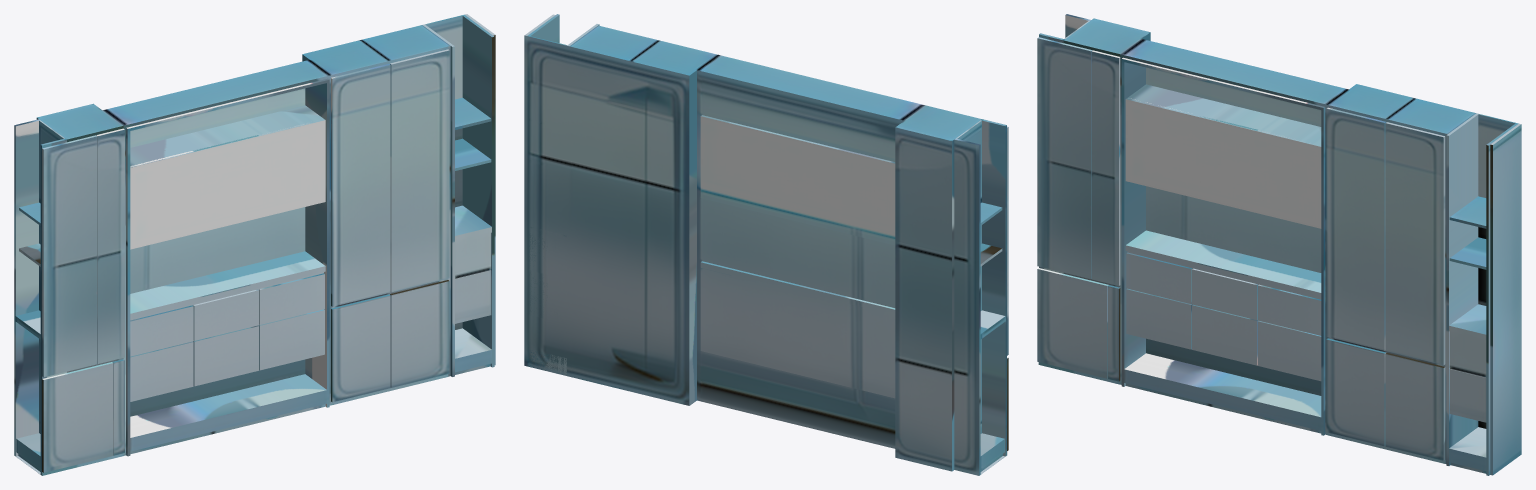
Rendered from edited_mesh.glb.
The picture shows the model from 3 angles, left to right: view 1: azimuth 30°, elevation 25°; view 2: azimuth 150°, elevation 25°; view 3: azimuth 330°, elevation 25°; orthographic projection.
Parts seen in each view (by area): view 1: solid_001_wire; view 2: solid_001_wire; view 3: solid_001_wire.
Boxes of the visible parts, box(x1,y1,x2,y2) form: solid_001_wire: box(14, 14, 495, 475); solid_001_wire: box(524, 14, 1008, 475); solid_001_wire: box(1037, 14, 1521, 475).
Bounding box in the file's own units: 1.67 × 1.16 × 0.2019.
1 material, 1 textured.
